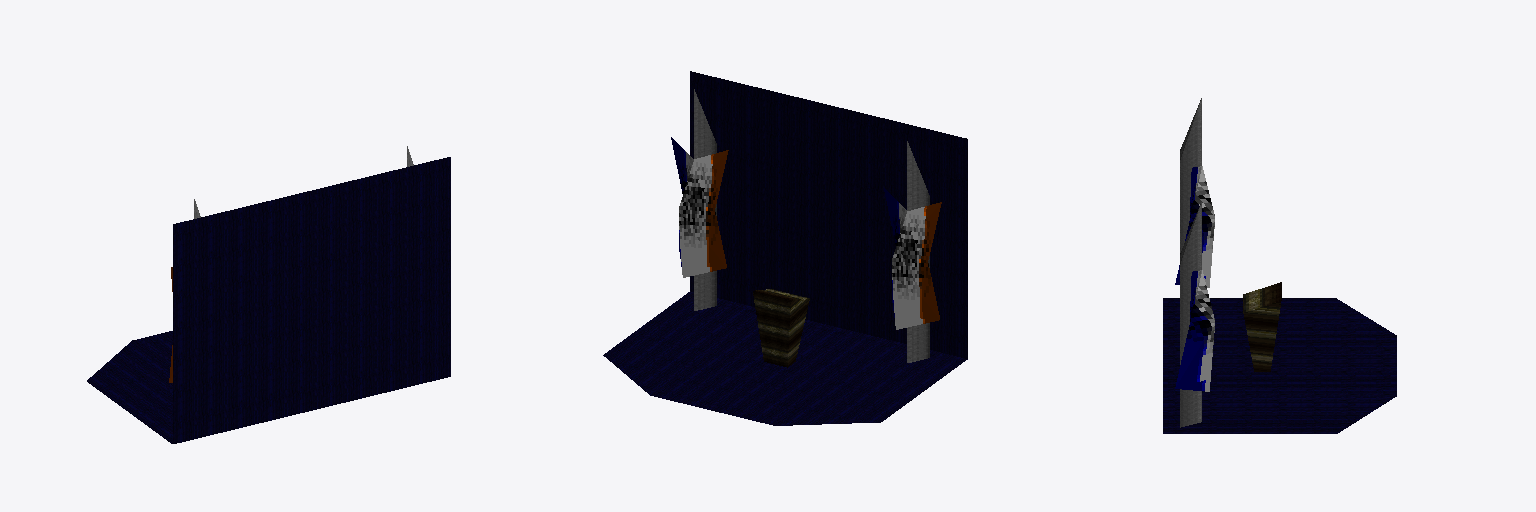
3 renders of one model, left to right at view 1: azimuth 30°, elevation 25°; view 2: azimuth 150°, elevation 25°; view 3: azimuth 270°, elevation 25°, orthographic.
Parts seen in each view (by area): view 1: prompt; view 2: prompt; view 3: prompt.
Part boxes in pixels (left/top/right/bottom): prompt: left=87, top=146, right=450, bottom=443; prompt: left=603, top=71, right=967, bottom=425; prompt: left=1163, top=98, right=1396, bottom=433.
Size of the model in its own units: 9.44 by 7.09 by 6.74.
Materials: 4 (4 with a texture image).